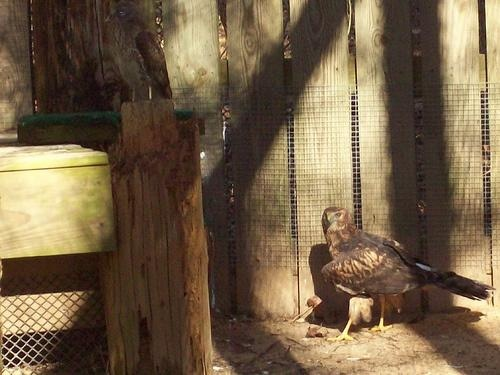bird: (314, 209, 491, 349)
